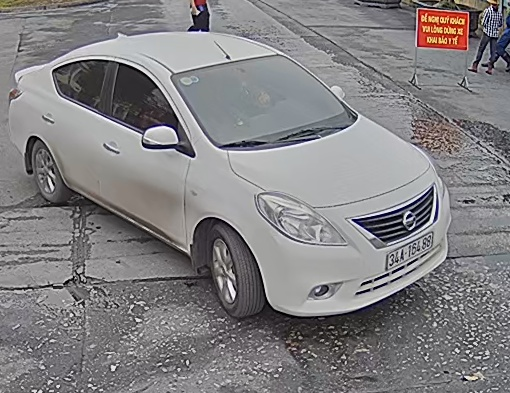vehicle plate: (383, 230, 437, 272)
